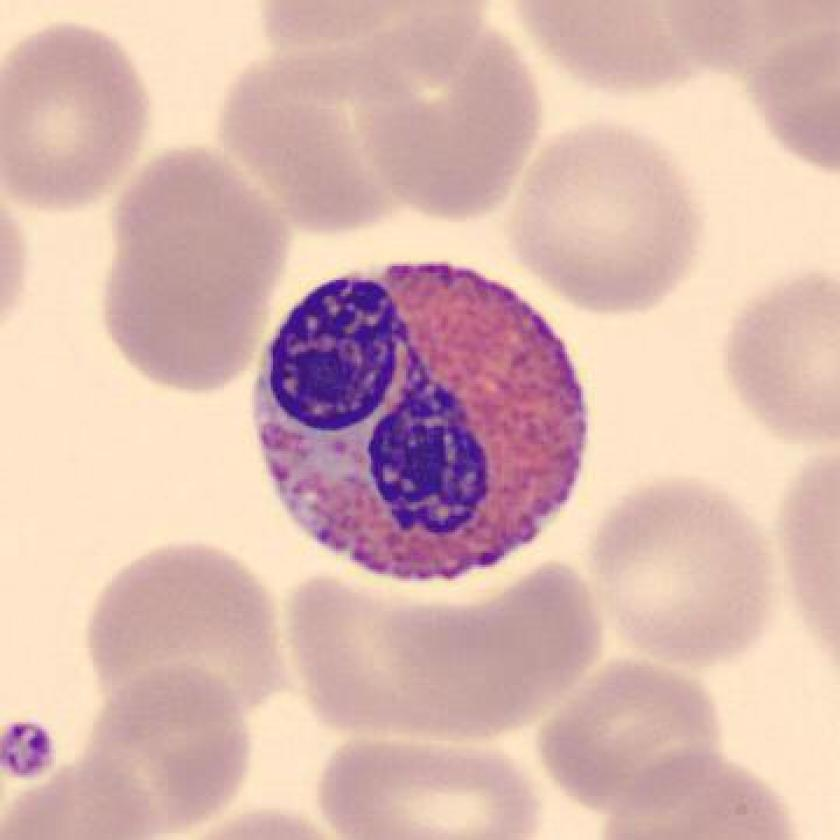eosinophil: (232, 246, 601, 596)
